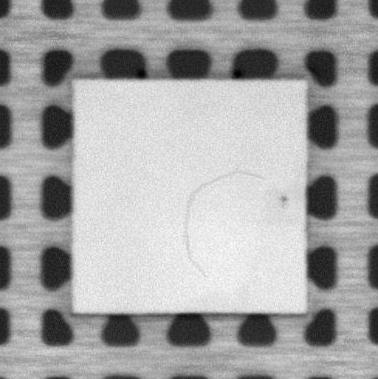DIE_CRACK: (181, 169, 268, 281)
